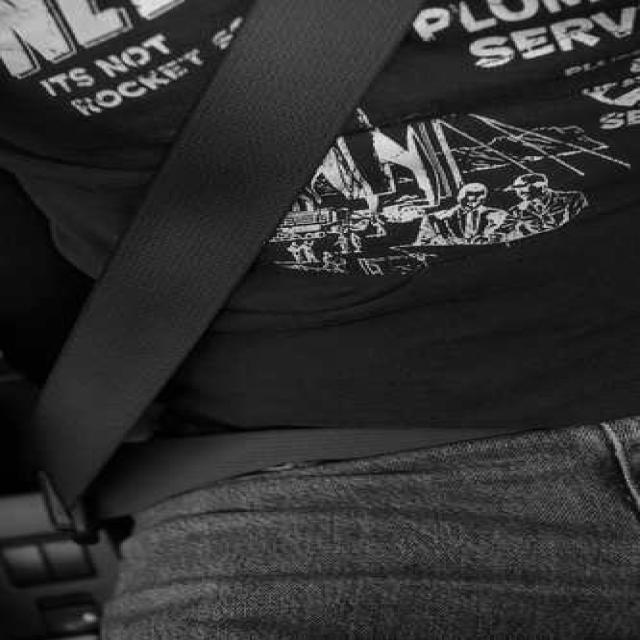Seatbelt: (134, 3, 412, 529)
